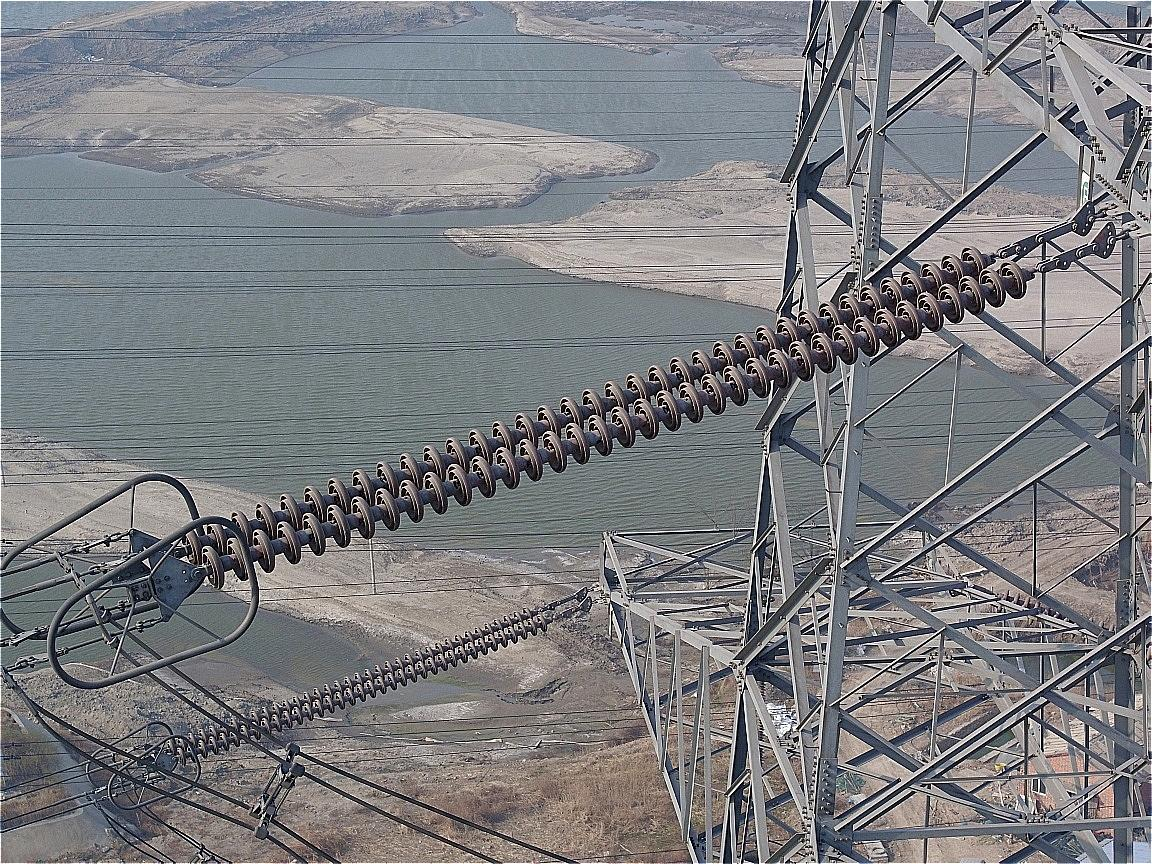insultor1: (186, 248, 1026, 590), (167, 608, 553, 768)
